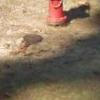Hydrant: (42, 0, 72, 31)
